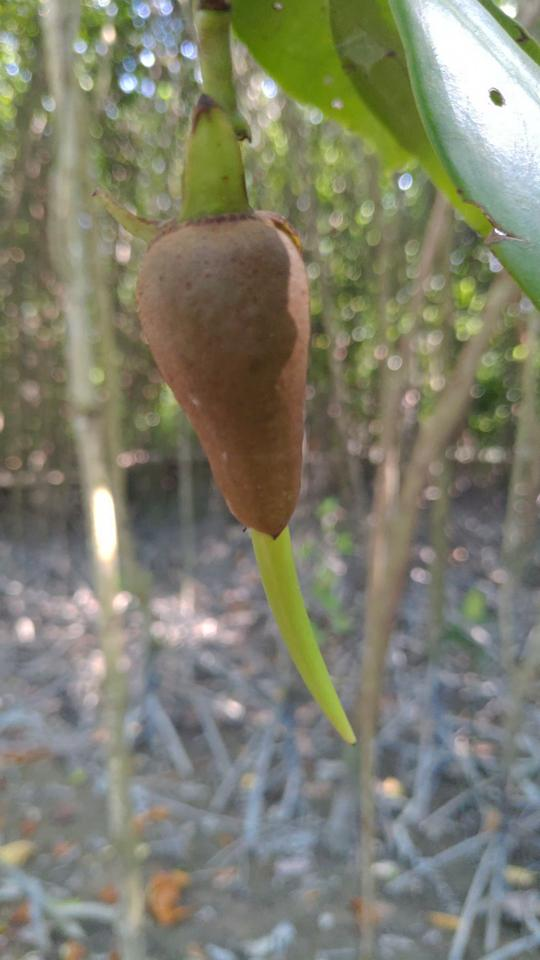mentah: (80, 79, 374, 753)
